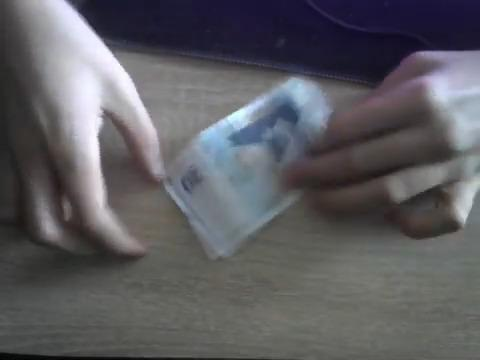20leva: (165, 78, 333, 262)
